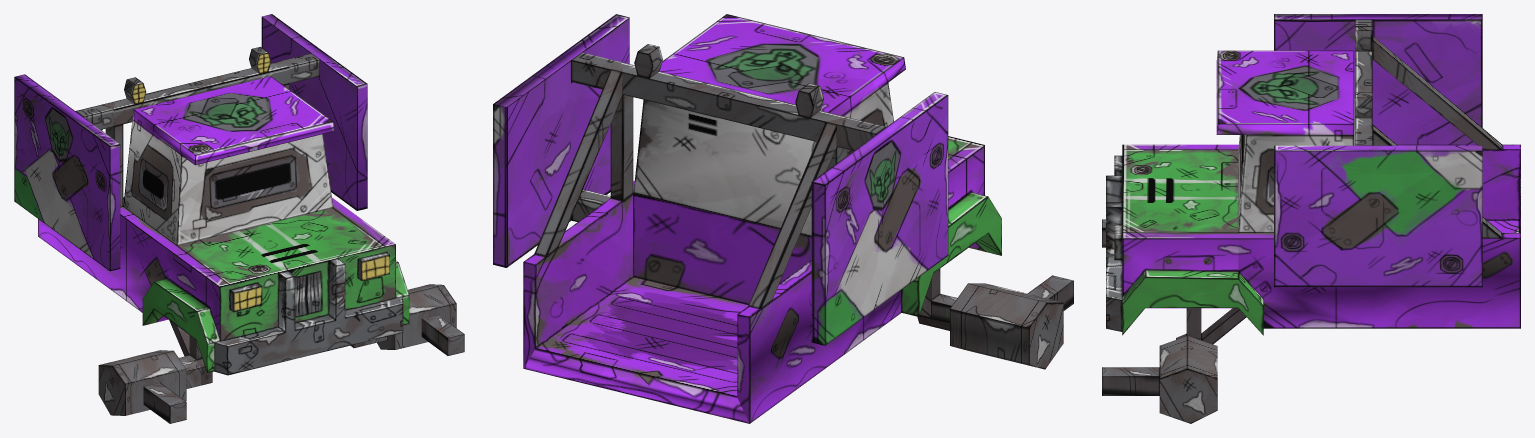
Rendered from HeavyEnemy.fbx.
3 renders of one model, left to right at view 1: azimuth 30°, elevation 25°; view 2: azimuth 150°, elevation 25°; view 3: azimuth 270°, elevation 25°, orthographic. The views are drawn at different scales.
Parts seen in each view (by area): view 1: pasted__pCube8; view 2: pasted__pCube8; view 3: pasted__pCube8.
Part boxes in pixels (box(x1,y1,x2,y2)): pasted__pCube8: box(14, 14, 464, 423); pasted__pCube8: box(493, 14, 1073, 423); pasted__pCube8: box(1102, 14, 1520, 423).
Size of the model in its own units: 285 by 206 by 285.
